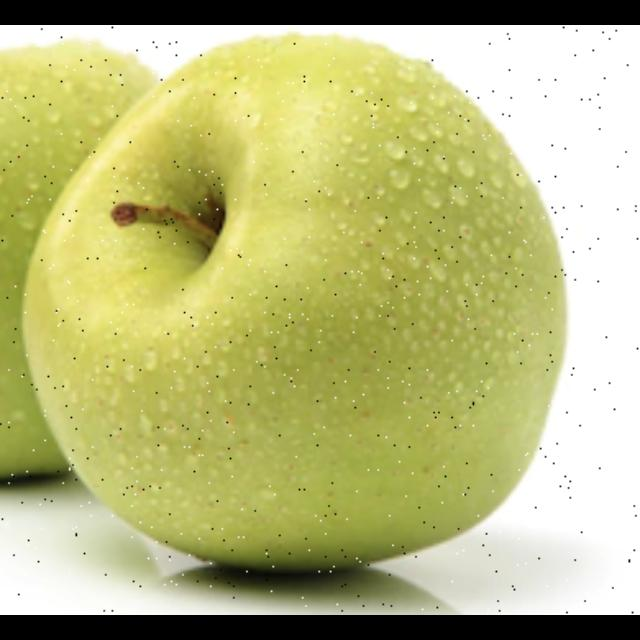Apel Segar: (20, 32, 571, 578)
